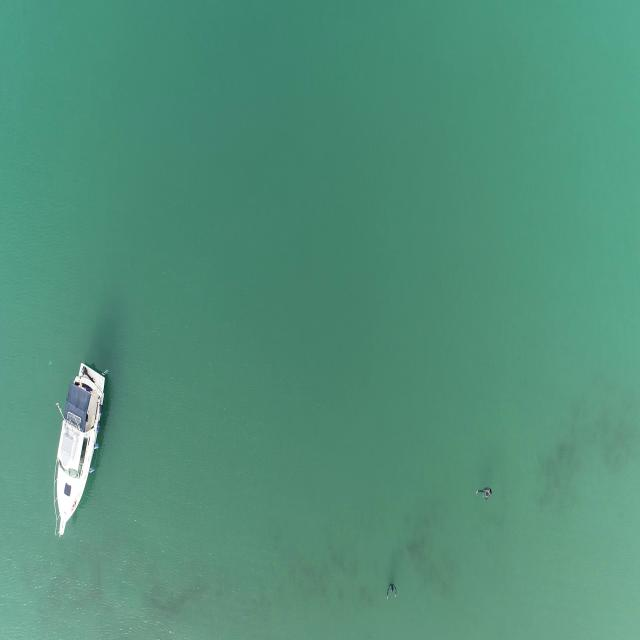boat: (50, 361, 110, 536)
person: (477, 482, 493, 504), (385, 581, 398, 603)
